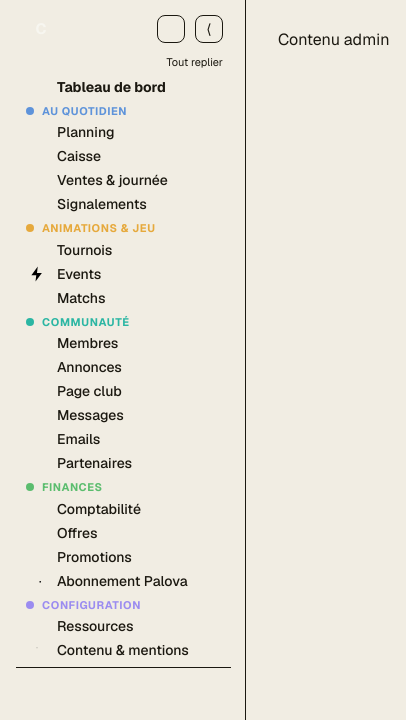
Test: AdminLayout — sections repliables › « Tout replier » masque les entrées de toutes les sections
This screenshot has width=406, height=720.
Click the button "Tout replier" at (195, 64), box [159,54,231,74]
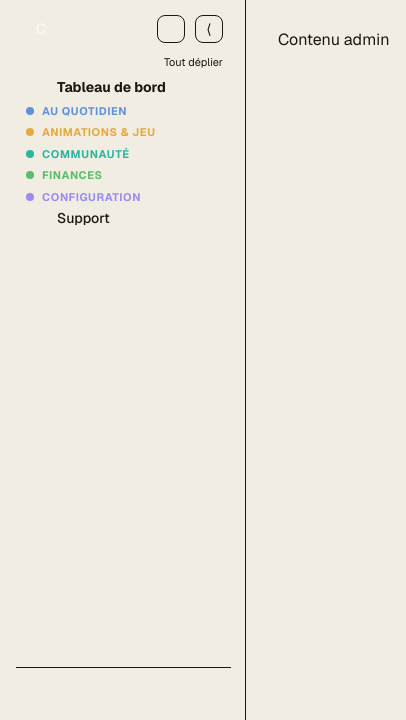
Expected: the link "Réglages" is not shown
Result: the link "Planning" is gone
Result: the button "Tout déplier" is shown at [156,54,231,74]
